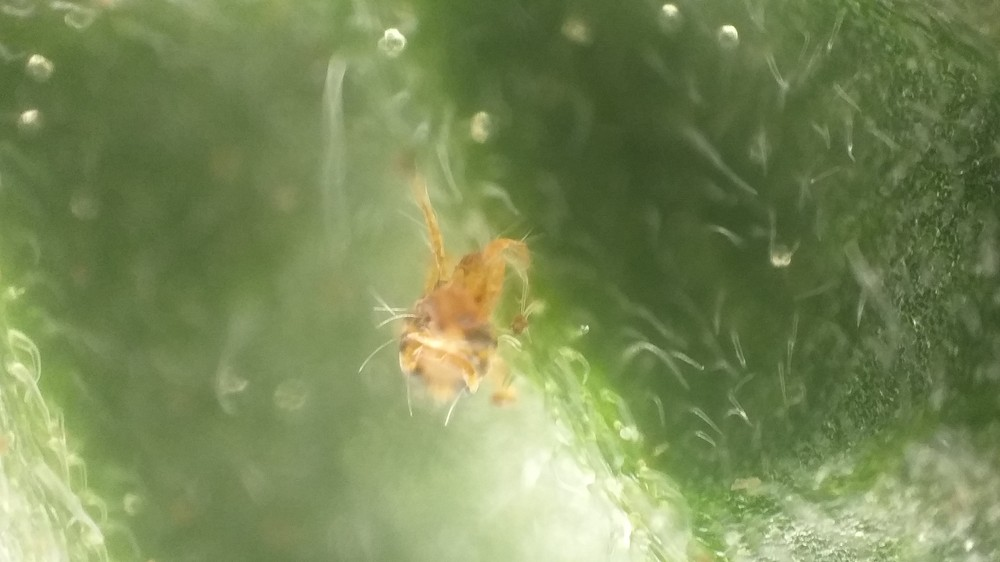Aracnido Rojo: (358, 171, 557, 451)
